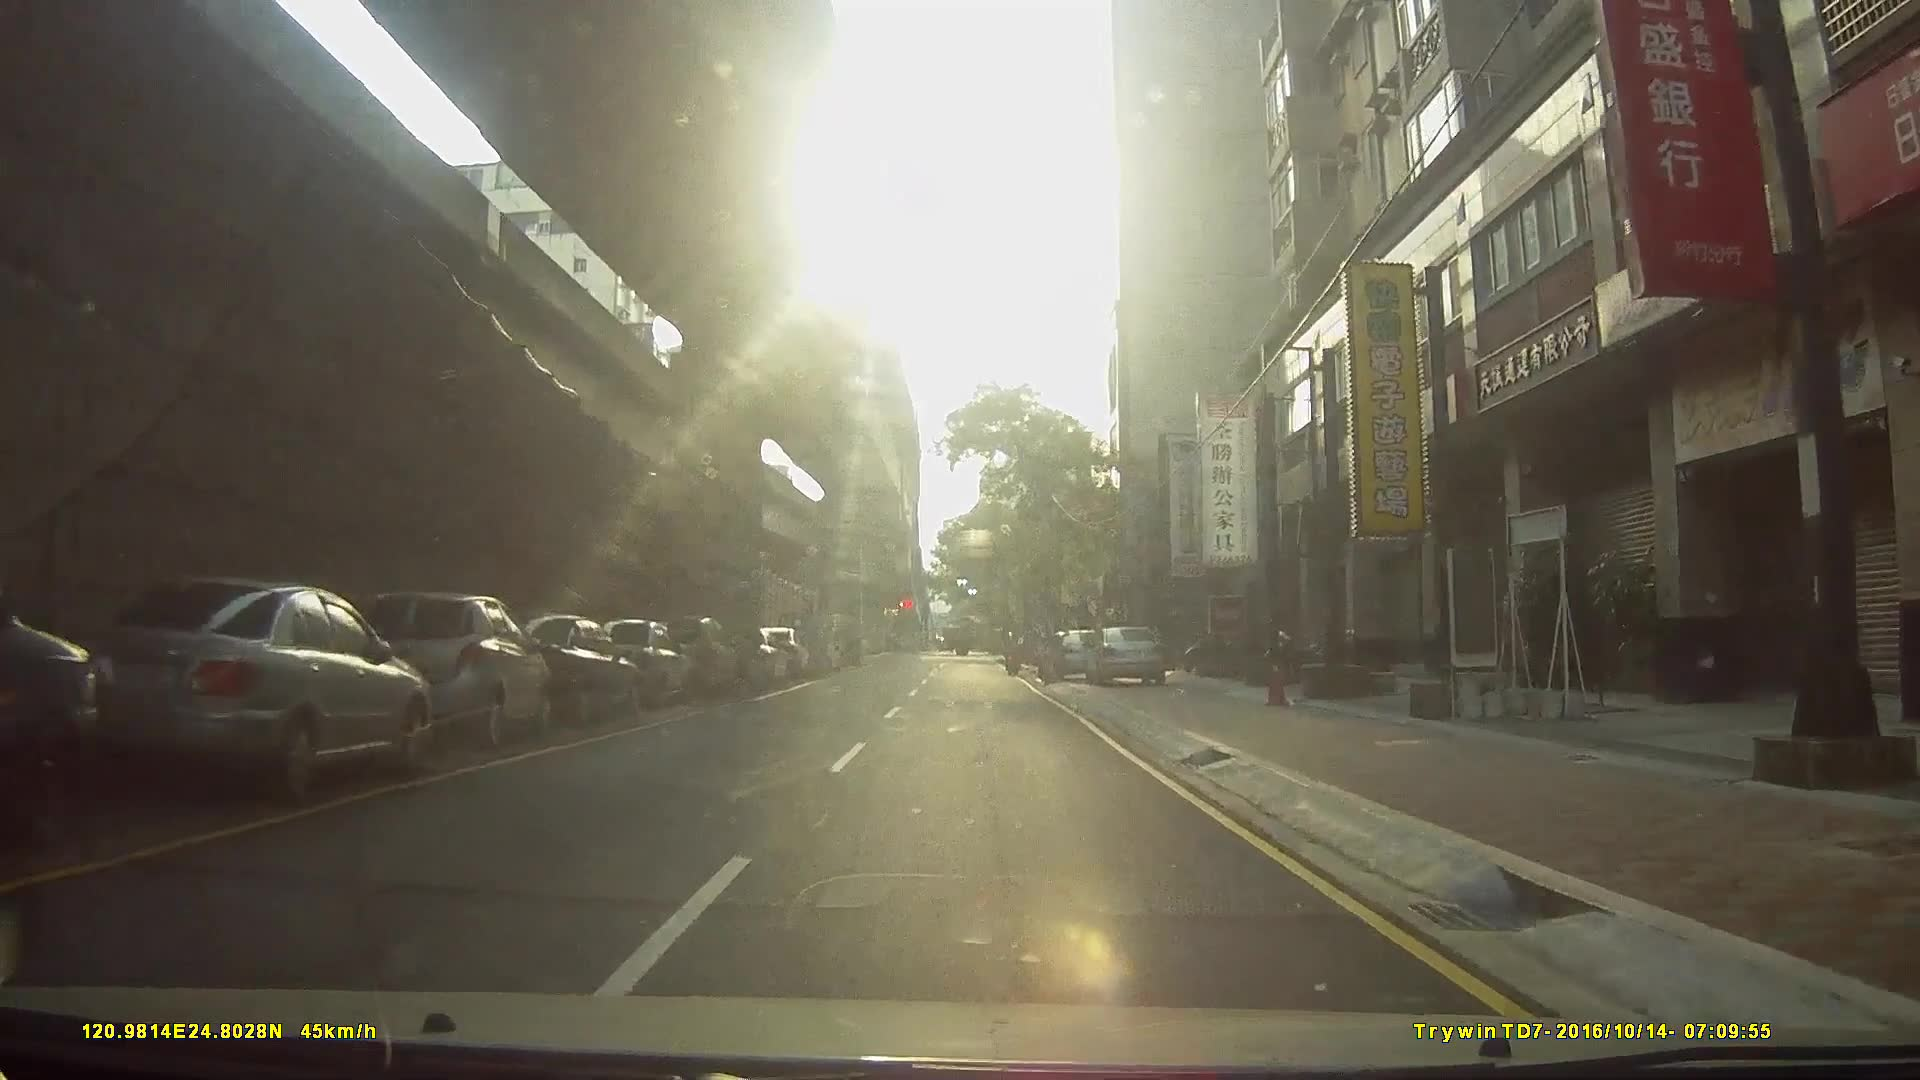vehicle: (38, 572, 417, 814), (1, 541, 131, 852), (327, 588, 547, 749), (495, 611, 637, 731), (589, 617, 695, 708), (647, 613, 738, 704), (1080, 625, 1170, 684), (1035, 626, 1106, 683), (773, 605, 829, 675), (939, 615, 1018, 651)
